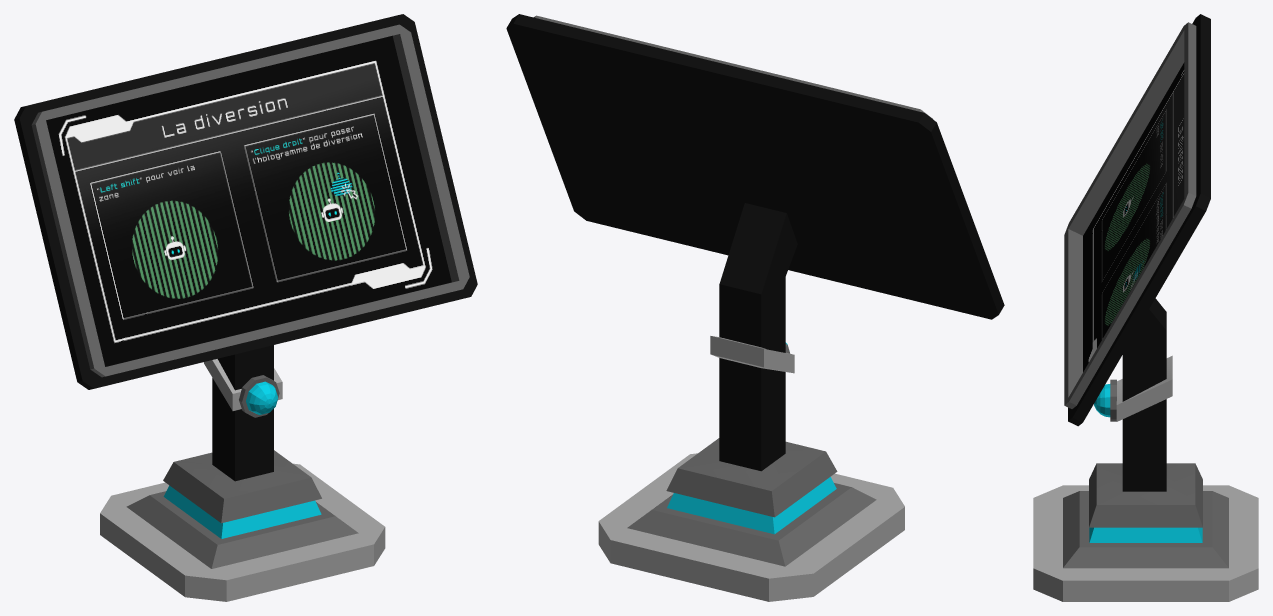
Rendered from panneau_ui_diversion.fbx.
3 renders of one model, left to right at view 1: azimuth 30°, elevation 25°; view 2: azimuth 150°, elevation 25°; view 3: azimuth 270°, elevation 25°, orthographic. The views are drawn at different scales.
Visible parts, largest first — view 1: pCube7; view 2: pCube7; view 3: pCube7.
Part boxes in pixels (x1,y1,x2,y2): pCube7: (14,14,477,601); pCube7: (506,14,1004,601); pCube7: (1033,14,1258,601).
Size of the model in its own units: 1.97 by 2.2 by 1.
Materials: 5 (1 with a texture image).
